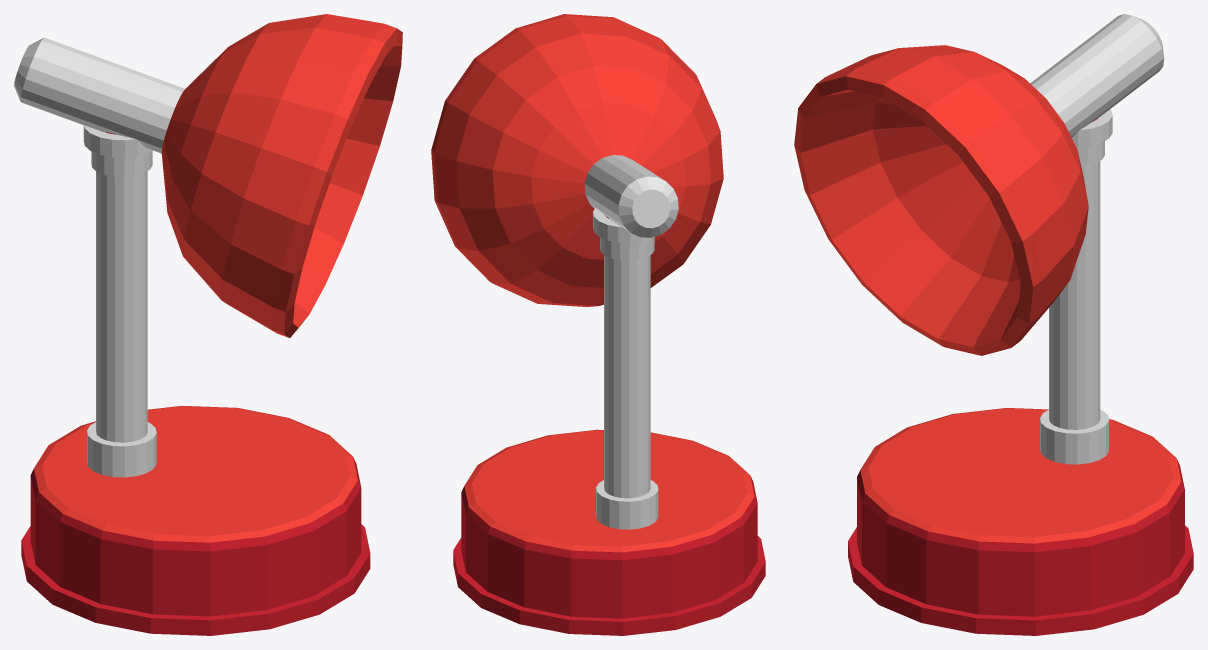
File: table_lamp.fbx
3 views of the same model, side by side, from view 1: azimuth 30°, elevation 25°; view 2: azimuth 150°, elevation 25°; view 3: azimuth 270°, elevation 25° (orthographic). The views are drawn at different scales.
Parts seen in each view (by area): view 1: table_lamp; view 2: table_lamp; view 3: table_lamp.
Part boxes in pixels (box(x1,y1,x2,y2)): table_lamp: box(14, 14, 402, 635); table_lamp: box(431, 14, 765, 635); table_lamp: box(794, 14, 1193, 635).
Bounding box in the file's own units: 15.39 × 23.09 × 15.39.
